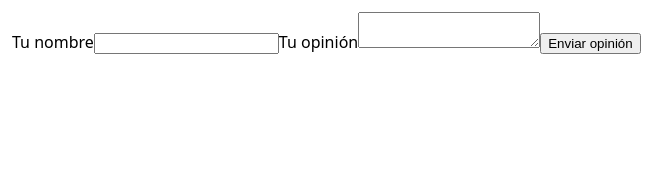
FormularioOpinion › Envía los datos sin espacios sobrantes y vacia los campos
The width and height of the screenshot is (658, 172).
Type " Ana " into the field labelled "Tu nombre" at (186, 44), box x1=94 y1=33 x2=279 y2=54
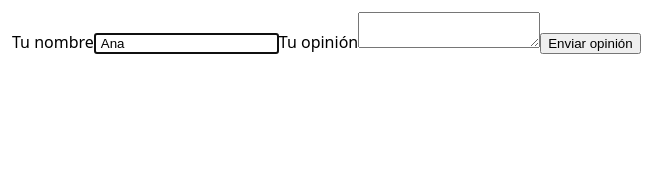
Type " Muy buena " into the text box labelled "Tu opinión" at (449, 30), box x1=358 y1=12 x2=540 y2=48
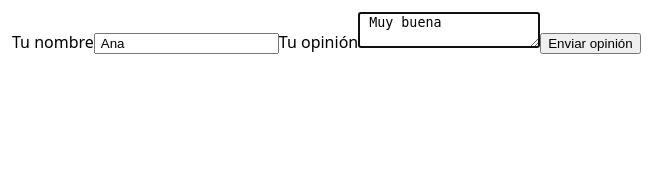
Click the button "Enviar opinión" at (590, 44), box x1=540 y1=33 x2=641 y2=54
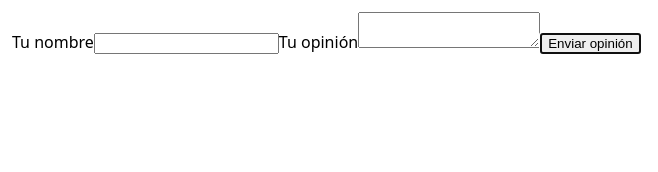
Now the field labelled "Tu nombre" is empty, box x1=94 y1=33 x2=279 y2=54
Now the text box labelled "Tu opinión" is empty, box x1=358 y1=12 x2=540 y2=48
